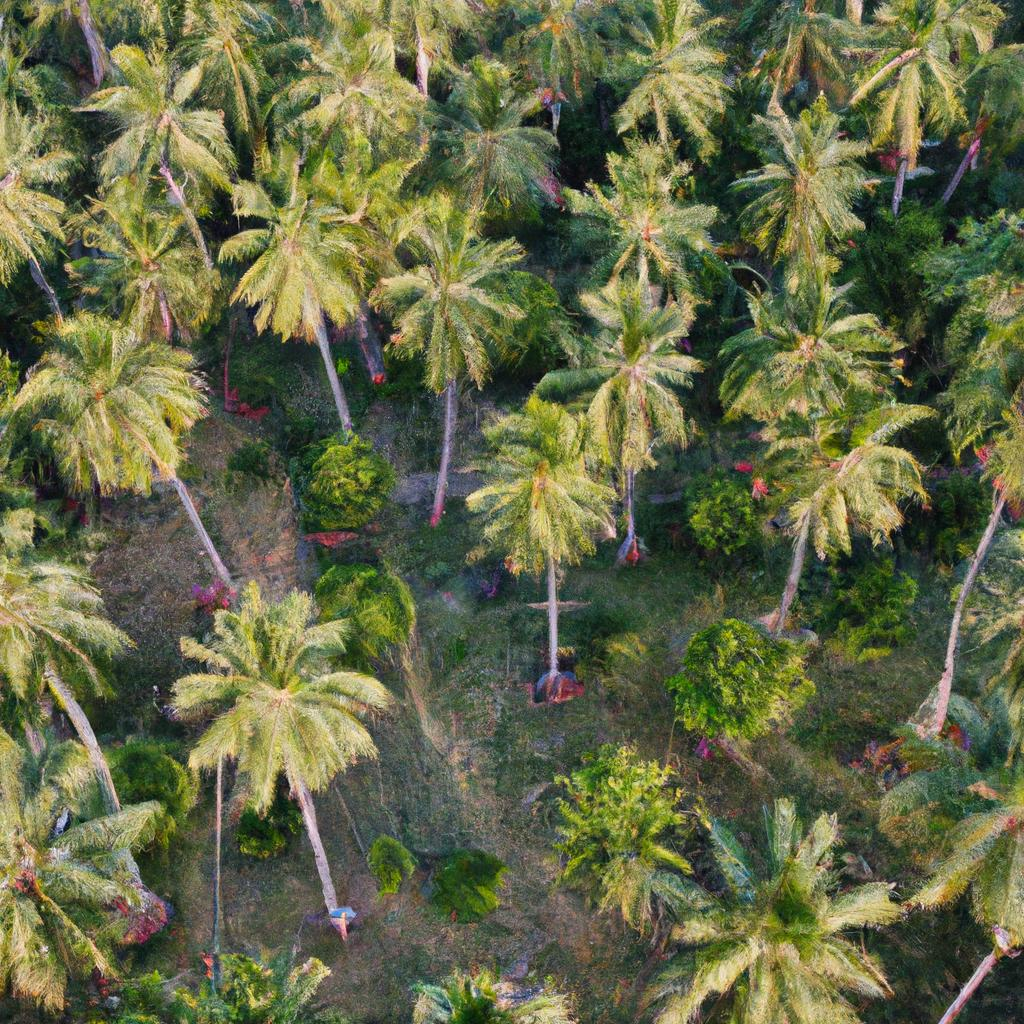coconut_tree: (656, 797, 899, 1021), (175, 567, 399, 804), (18, 302, 213, 499), (378, 196, 550, 385), (475, 388, 620, 572), (231, 167, 377, 343), (739, 269, 913, 416), (751, 423, 932, 561), (77, 188, 228, 334), (569, 148, 731, 283), (91, 54, 250, 191), (743, 113, 893, 254), (607, 7, 743, 147)
